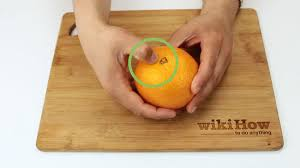orange: (132, 44, 203, 114)
